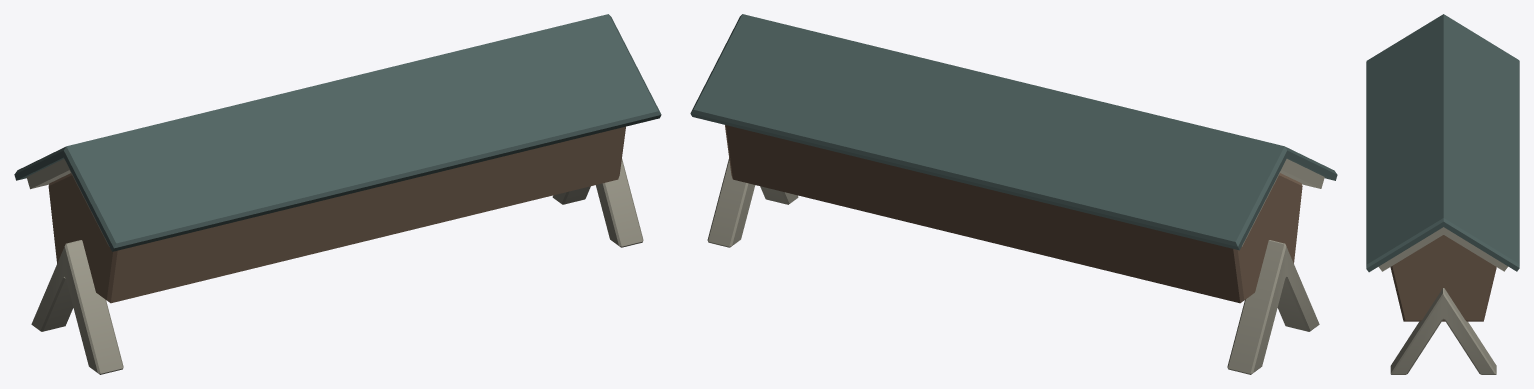
File: farm_trough.glb
3 views of the same model, side by side, from view 1: azimuth 30°, elevation 25°; view 2: azimuth 150°, elevation 25°; view 3: azimuth 270°, elevation 25° (orthographic). The views are drawn at different scales.
Visible parts, largest first — view 1: farm_trough; view 2: farm_trough; view 3: farm_trough.
Boxes of the visible parts, x1,y1,x2,y2 form: farm_trough: (14,14,661,374); farm_trough: (690,14,1337,374); farm_trough: (1366,14,1519,374).
Bounding box in the file's own units: 1.97 × 0.6996 × 0.6201.
Materials: 1 (1 with a texture image).
